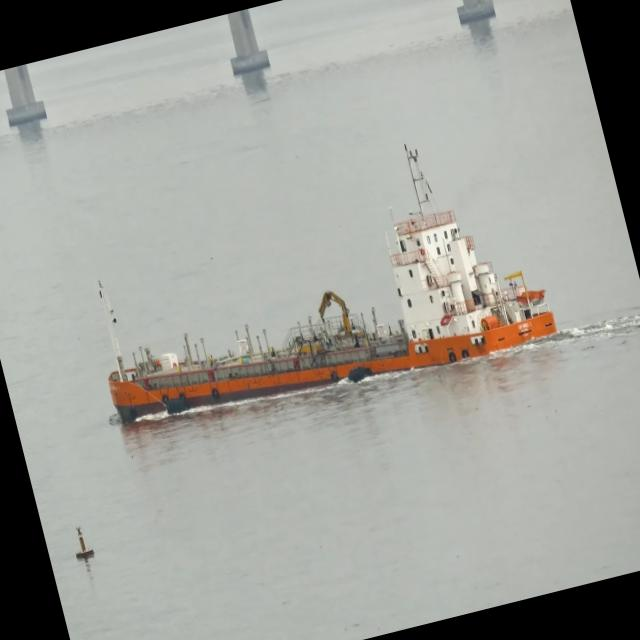Tanker: (99, 211, 556, 424)
